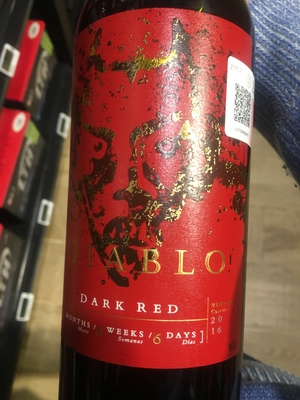diablo dark red: (63, 10, 262, 400)
